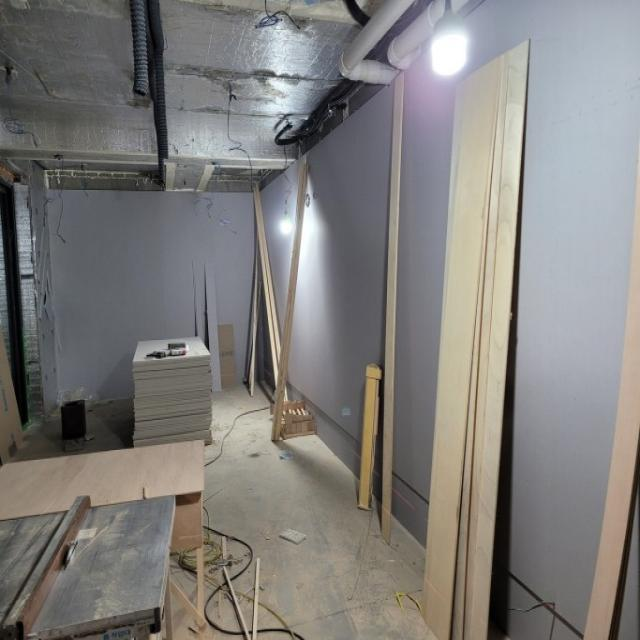board: (0, 439, 203, 520)
wood: (420, 39, 530, 640), (583, 152, 640, 640), (380, 71, 404, 545), (271, 162, 309, 441), (253, 184, 288, 400), (223, 566, 251, 640), (252, 557, 260, 640)
